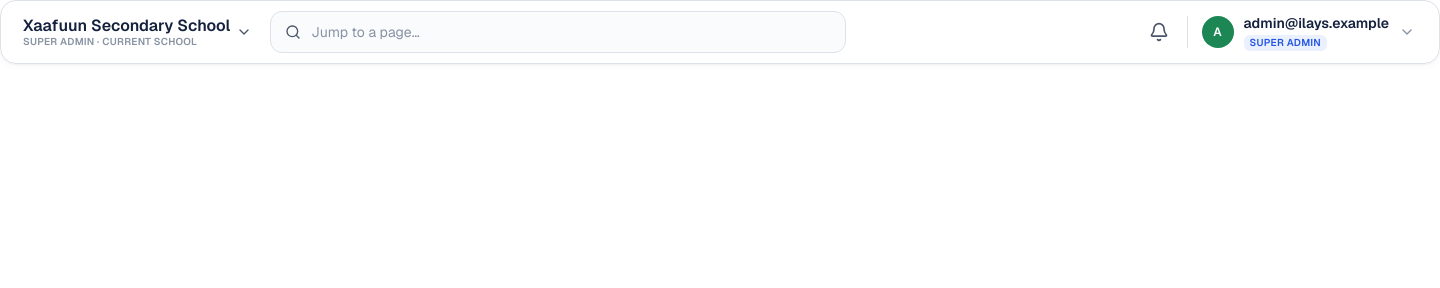
Test: Topbar — school switcher dropdown › closes when Escape is pressed
Click the button with aria-label "Switch school context" at {"x": 138, "y": 32}, box [17, 12, 258, 52]
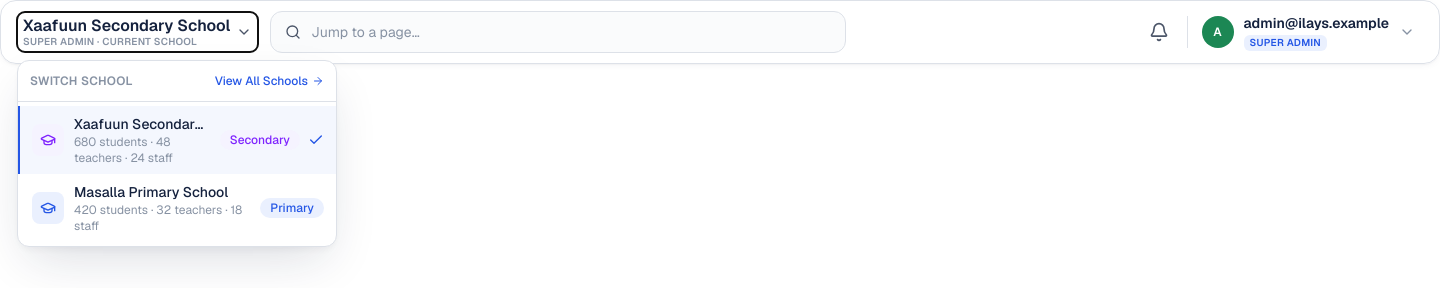
Expected: the text "Masalla Primary School" is shown, [74, 182, 250, 202]
Press Escape
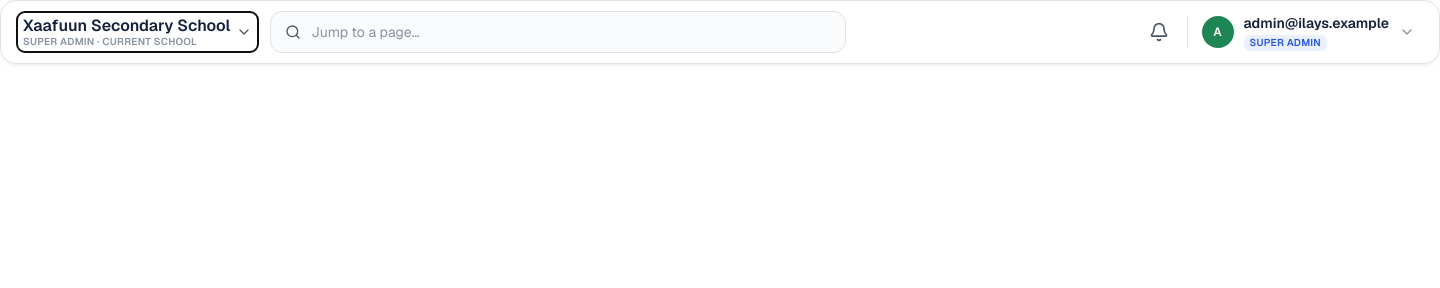
Expected: the menu item "Masalla Primary School" is gone
